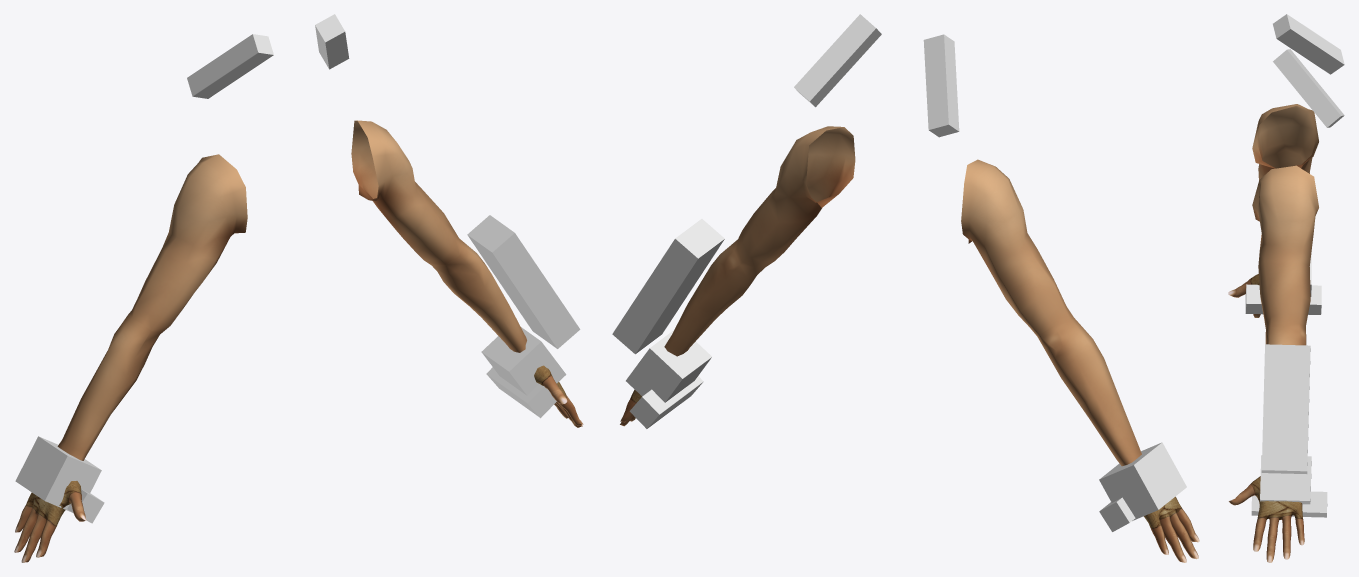
The model's file is tr_hof_civil01_hand_fp.FBX.
3 renders of one model, left to right at view 1: azimuth 30°, elevation 25°; view 2: azimuth 150°, elevation 25°; view 3: azimuth 270°, elevation 25°, orthographic. The views are drawn at different scales.
Visible parts, largest first — view 1: TR_HOF_underwear_armpad, Box_bouclier, TR_HOF_civil01_hand_FP, poignet_droit, cheveux_dr, poignet_gauche, cheveux_go, box_arme_gauche; view 2: TR_HOF_underwear_armpad, Box_bouclier, poignet_droit, poignet_gauche, cheveux_dr, cheveux_go, TR_HOF_civil01_hand_FP, box_arme_gauche, box_arme; view 3: TR_HOF_underwear_armpad, Box_bouclier, TR_HOF_civil01_hand_FP, cheveux_dr, cheveux_go, poignet_gauche, box_arme, box_arme_gauche.
Boxes of the visible parts, box(x1,y1,x2,y2) form: TR_HOF_underwear_armpad: box(57, 120, 526, 460); Box_bouclier: box(467, 215, 580, 348); TR_HOF_civil01_hand_FP: box(14, 365, 583, 562); poignet_droit: box(15, 436, 101, 512); cheveux_dr: box(187, 34, 273, 98); poignet_gauche: box(481, 327, 566, 395); cheveux_go: box(315, 14, 349, 69); box_arme_gauche: box(486, 367, 556, 418); TR_HOF_underwear_armpad: box(664, 126, 1141, 466); Box_bouclier: box(612, 219, 724, 354); poignet_droit: box(1099, 442, 1186, 520); poignet_gauche: box(626, 330, 711, 402); cheveux_dr: box(923, 34, 959, 137); cheveux_go: box(794, 14, 881, 107); TR_HOF_civil01_hand_FP: box(620, 389, 1199, 562); box_arme_gauche: box(629, 376, 703, 428); box_arme: box(1099, 497, 1135, 531); TR_HOF_underwear_armpad: box(1252, 104, 1318, 345); Box_bouclier: box(1261, 344, 1310, 473); TR_HOF_civil01_hand_FP: box(1228, 274, 1304, 562); cheveux_dr: box(1273, 14, 1344, 74); cheveux_go: box(1273, 49, 1344, 127); poignet_gauche: box(1260, 455, 1311, 504); box_arme: box(1245, 284, 1321, 314); box_arme_gauche: box(1251, 491, 1327, 517).
Bounding box in the file's own units: 0.9515 × 0.7524 × 0.1934.
